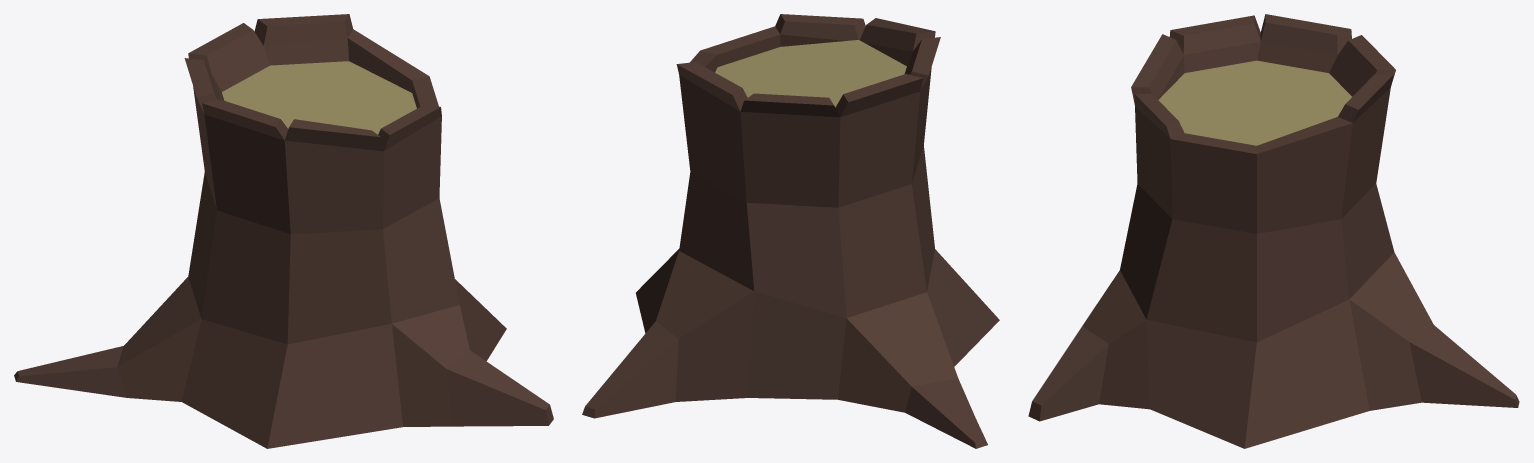
The model's file is stump_1.obj.
3 views of the same model, side by side, from view 1: azimuth 30°, elevation 25°; view 2: azimuth 150°, elevation 25°; view 3: azimuth 270°, elevation 25° (orthographic).
Visible parts, largest first — view 1: stump_1_Cylinder.005; view 2: stump_1_Cylinder.005; view 3: stump_1_Cylinder.005.
Boxes of the visible parts, left/top/right/bottom form: stump_1_Cylinder.005: left=14, top=14, right=553, bottom=448; stump_1_Cylinder.005: left=582, top=14, right=999, bottom=448; stump_1_Cylinder.005: left=1028, top=14, right=1519, bottom=448.
Size of the model in its own units: 0.6154 by 0.4126 by 0.6303.
Materials: 1 (1 with a texture image).
